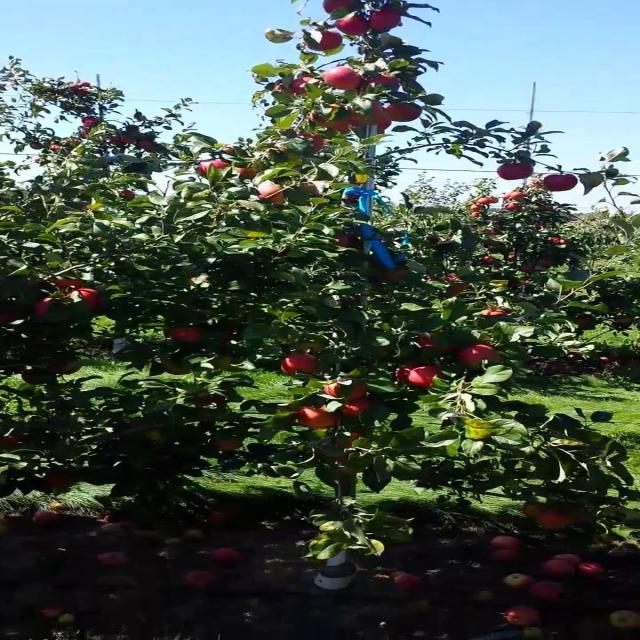apple: (326, 432, 364, 464), (461, 344, 505, 367), (298, 408, 341, 430), (355, 100, 388, 127), (326, 68, 363, 91), (383, 104, 423, 124), (284, 356, 322, 376), (305, 32, 343, 52), (312, 104, 345, 127), (412, 368, 448, 389), (369, 12, 405, 32), (326, 384, 370, 400), (540, 512, 576, 531), (540, 176, 580, 192), (333, 432, 364, 452), (497, 164, 533, 181), (340, 16, 370, 36), (419, 336, 455, 352), (340, 400, 373, 417), (198, 160, 233, 176), (298, 132, 327, 151), (364, 104, 389, 126), (70, 292, 100, 309), (170, 328, 204, 343), (262, 184, 286, 204), (163, 360, 192, 376), (369, 76, 402, 90), (376, 104, 393, 131), (291, 76, 315, 95), (35, 300, 60, 318), (383, 268, 411, 283), (49, 472, 73, 489), (35, 300, 55, 317), (56, 364, 84, 376), (348, 112, 368, 128), (220, 356, 240, 372), (20, 372, 44, 385), (483, 308, 510, 319), (326, 4, 357, 13), (525, 504, 546, 517), (333, 120, 354, 133), (220, 440, 242, 452), (447, 284, 469, 296), (56, 280, 85, 289), (6, 436, 27, 448), (333, 236, 354, 248), (198, 396, 226, 405), (397, 368, 412, 383), (227, 324, 240, 341), (276, 84, 293, 95), (575, 316, 592, 327), (241, 168, 256, 180), (307, 184, 320, 196), (148, 432, 165, 441), (6, 312, 20, 322), (120, 192, 135, 200)
